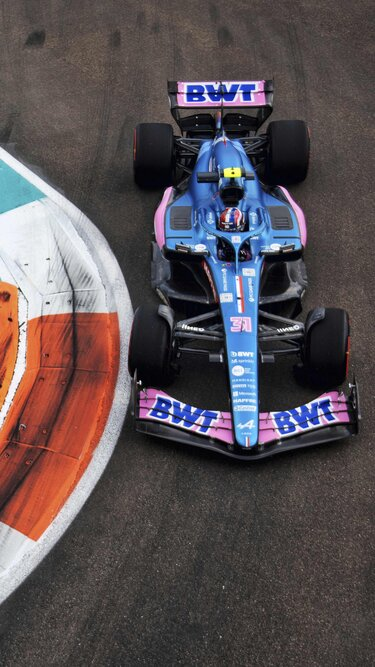Formule 1: (132, 79, 360, 463)
